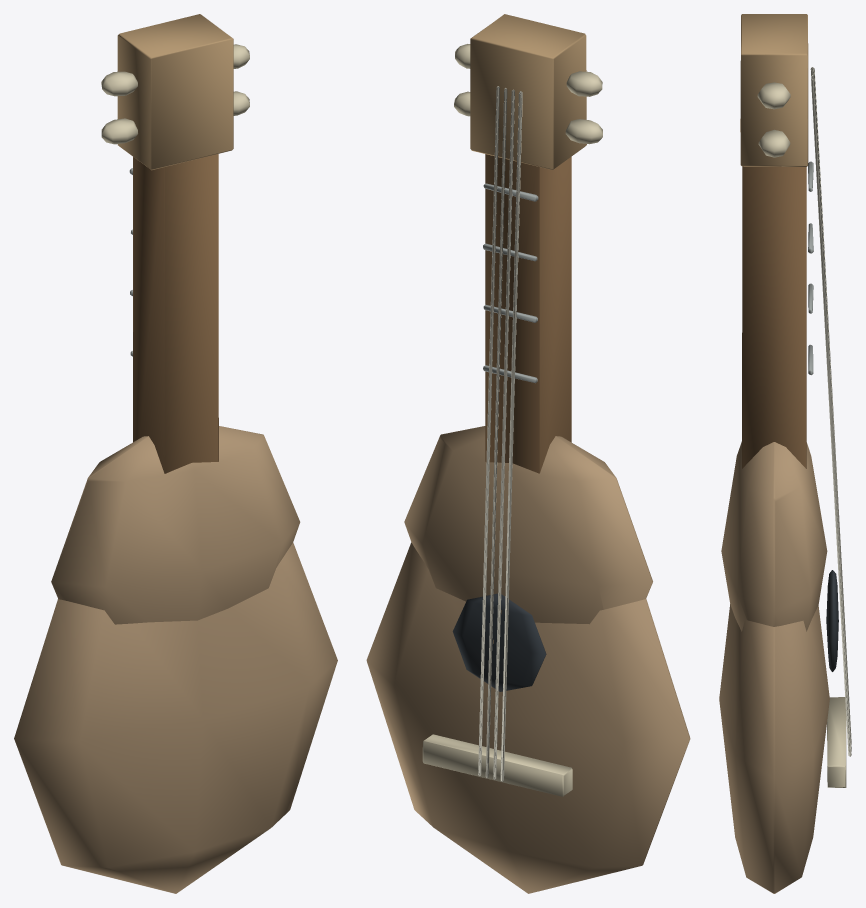
Rendered from guitar_low.glb.
3 views of the same model, side by side, from view 1: azimuth 30°, elevation 25°; view 2: azimuth 150°, elevation 25°; view 3: azimuth 270°, elevation 25° (orthographic).
Bounding box in the file's own units: 0.39 × 0.99 × 0.1383.
